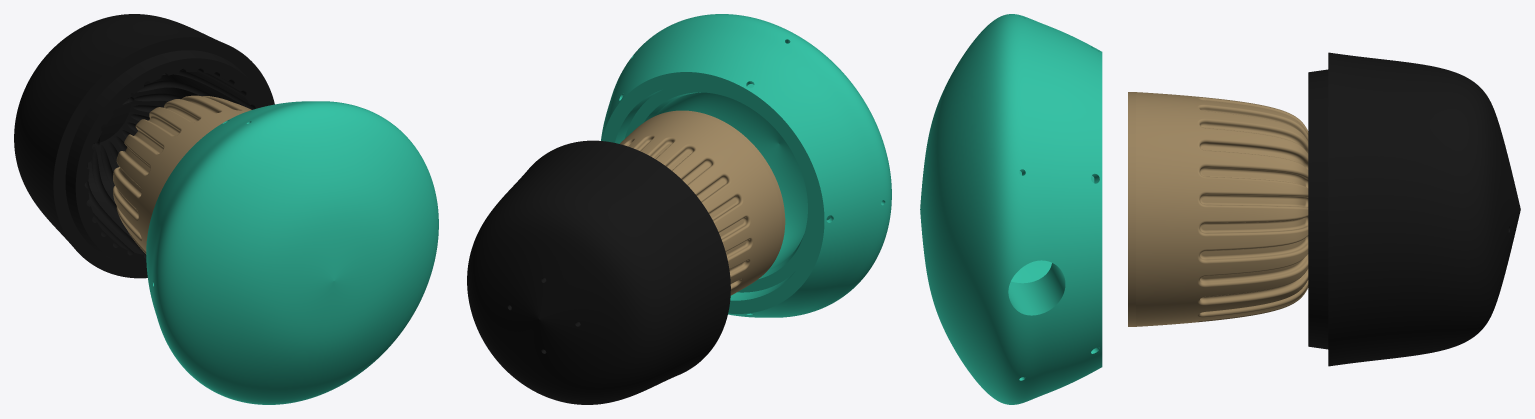
The model's file is nuthatch_exploded.glb.
3 views of the same model, side by side, from view 1: azimuth 30°, elevation 25°; view 2: azimuth 150°, elevation 25°; view 3: azimuth 270°, elevation 25° (orthographic). The views are drawn at different scales.
Parts seen in each view (by area): view 1: mesh_0_2, mesh_0, mesh_0_1; view 2: mesh_0, mesh_0_2, mesh_0_1; view 3: mesh_0_2, mesh_0, mesh_0_1.
Boxes of the visible parts, box(x1,y1,x2,y2) form: mesh_0_2: box(146, 101, 438, 404); mesh_0: box(14, 14, 274, 278); mesh_0_1: box(113, 95, 251, 254); mesh_0: box(467, 140, 730, 404); mesh_0_2: box(601, 14, 891, 317); mesh_0_1: box(620, 110, 785, 295); mesh_0_2: box(920, 14, 1102, 404); mesh_0: box(1308, 52, 1520, 366); mesh_0_1: box(1128, 92, 1308, 326).
Size of the model in its own units: 187 by 187 by 287.
